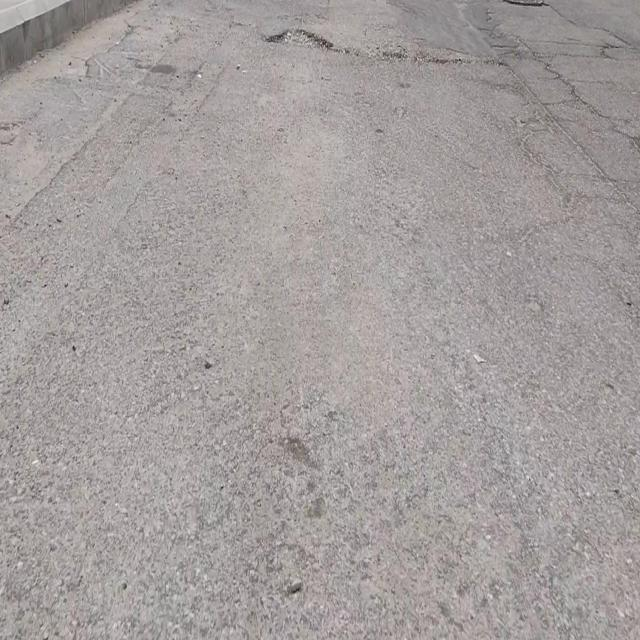Potholes: (267, 27, 334, 51)
